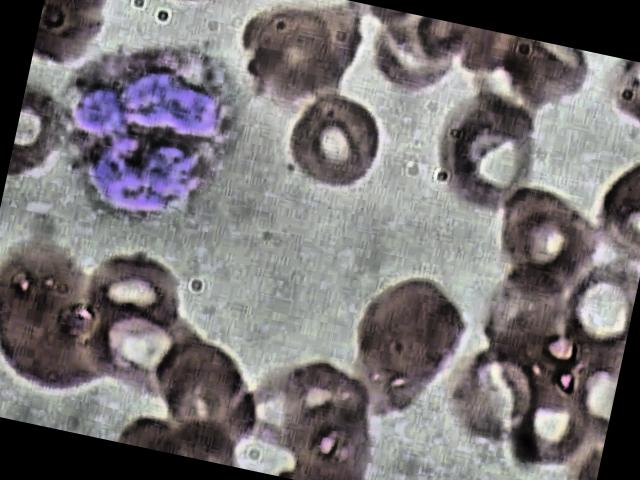RBC: (334, 267, 479, 434), (413, 82, 550, 234), (266, 78, 402, 208), (66, 293, 202, 421), (140, 331, 274, 459), (425, 335, 545, 470), (490, 194, 610, 324), (66, 242, 192, 354), (232, 4, 358, 116), (350, 4, 474, 110), (551, 252, 640, 384), (358, 8, 472, 103), (502, 381, 611, 480), (486, 34, 600, 128)
WBC: (31, 17, 274, 255)
